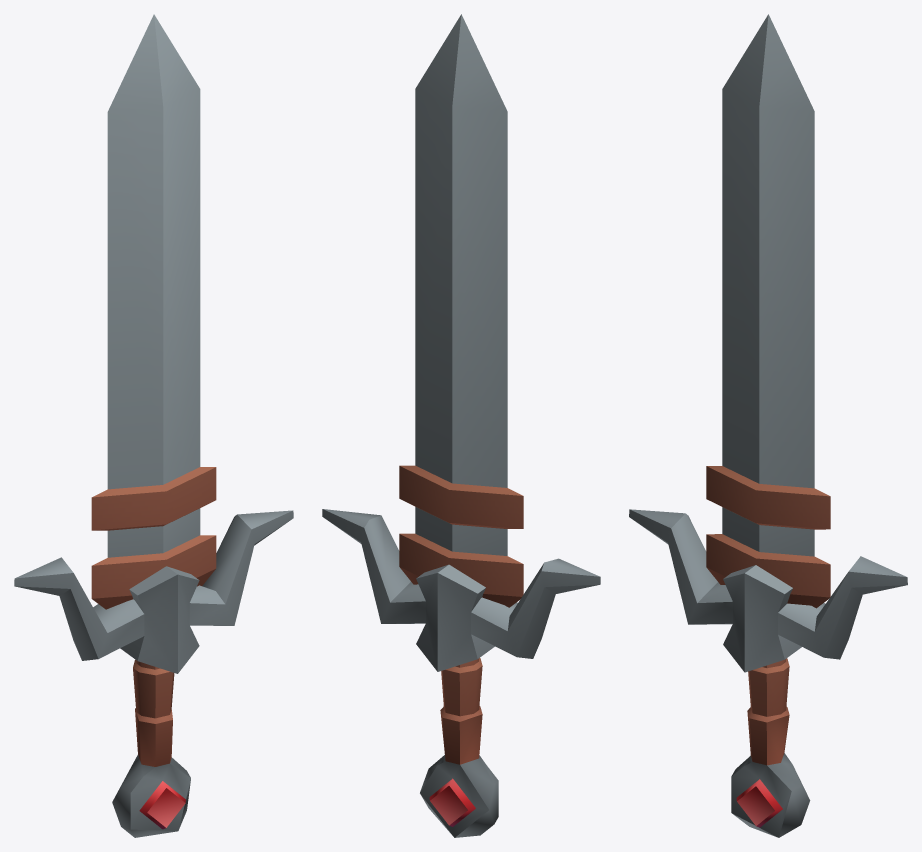
File: sword_2handed.glb
3 renders of one model, left to right at view 1: azimuth 30°, elevation 25°; view 2: azimuth 150°, elevation 25°; view 3: azimuth 330°, elevation 25°, orthographic.
Bounding box in the file's own units: 0.8391 × 2.36 × 0.248.
1 material, 1 textured.
